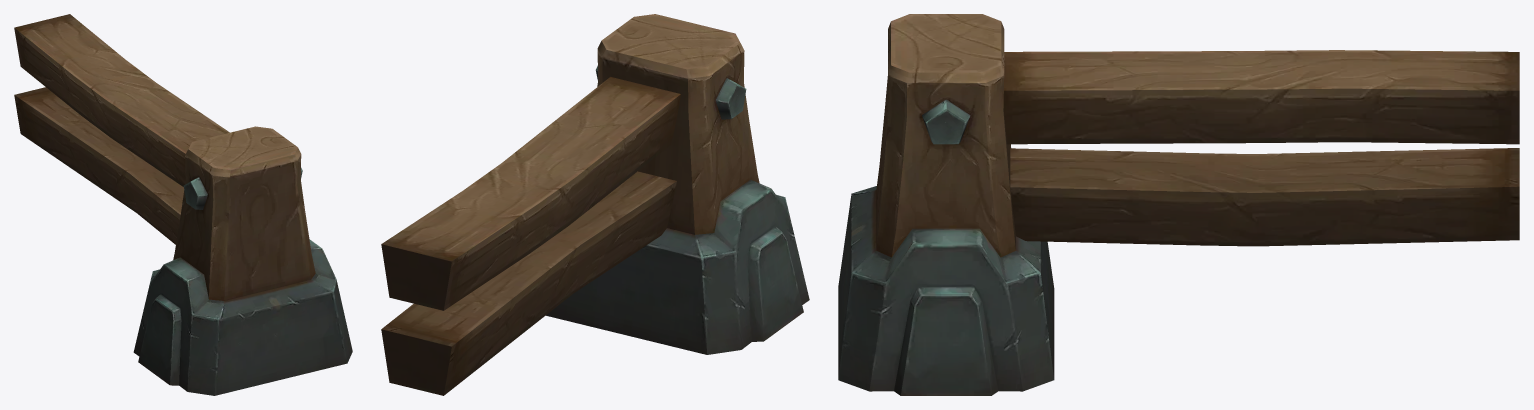
The picture shows the model from 3 angles, left to right: view 1: azimuth 30°, elevation 25°; view 2: azimuth 150°, elevation 25°; view 3: azimuth 270°, elevation 25°; orthographic projection. The views are drawn at different scales.
Bounding box in the file's own units: 1.55 × 1.7 × 3.61.
Materials: 1 (1 with a texture image).
